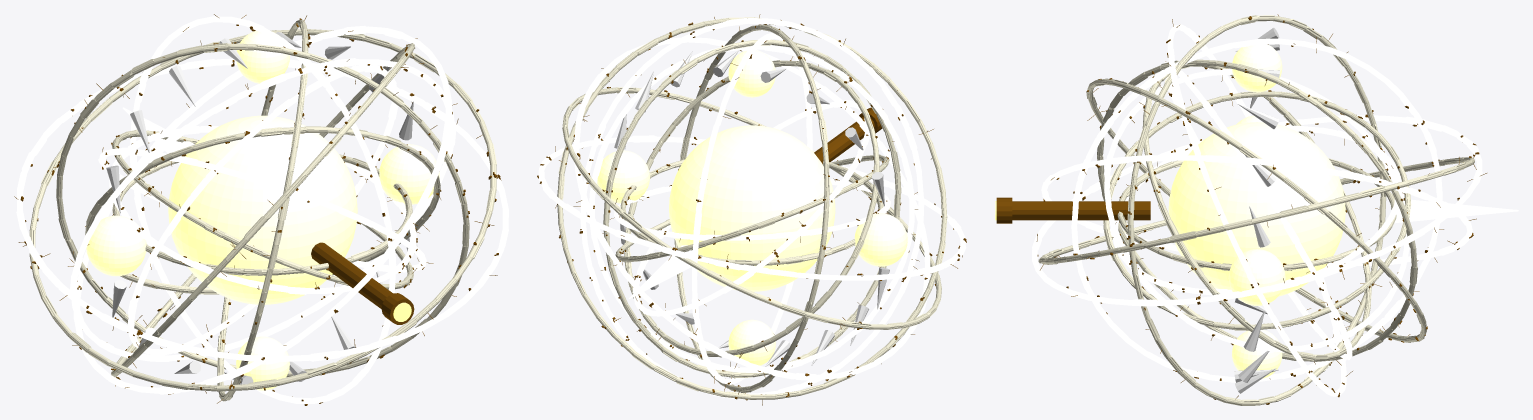
File: quorai_titan.glb
3 views of the same model, side by side, from view 1: azimuth 30°, elevation 25°; view 2: azimuth 150°, elevation 25°; view 3: azimuth 270°, elevation 25° (orthographic). The views are drawn at different scales.
Visible parts, largest first — view 1: quorai_titan; view 2: quorai_titan; view 3: quorai_titan.
Part boxes in pixels (x1,y1,x2,y2): quorai_titan: [14, 14, 508, 405]; quorai_titan: [537, 14, 966, 405]; quorai_titan: [995, 14, 1518, 405].
Bounding box in the file's own units: 8.92 × 7.32 × 10.
